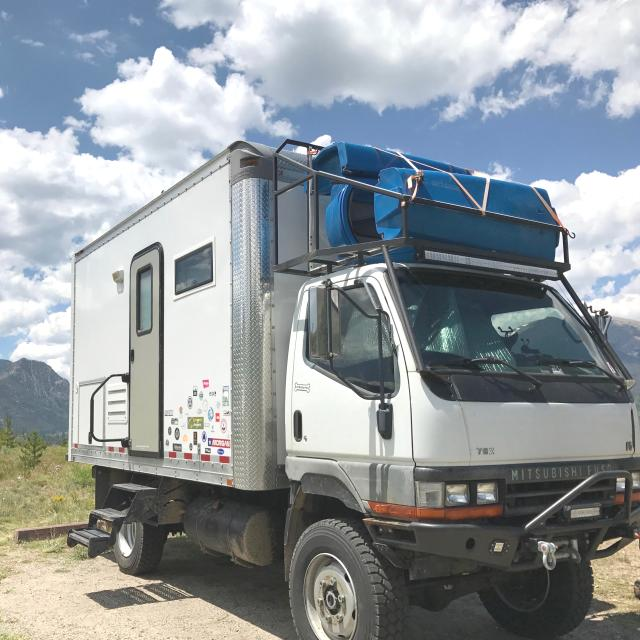truck: (69, 126, 640, 640)
